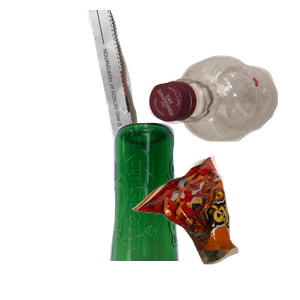glass: (107, 120, 278, 300)
paper: (85, 10, 224, 190)
plastic: (146, 53, 300, 187)
trash: (130, 153, 300, 300)
